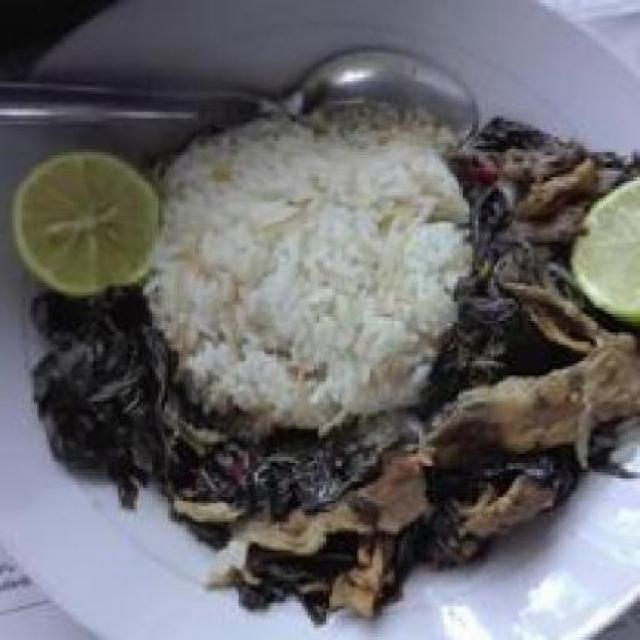fried rice: (150, 108, 476, 434)
